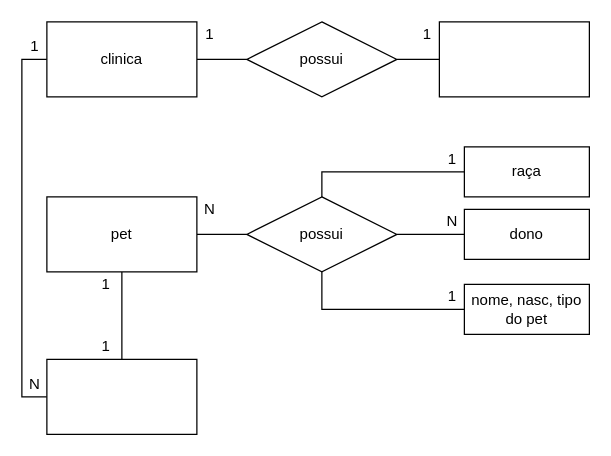
This 611x456 diagram has some shape labels left out. Here are the shapes that lost their labels. From the top down, the centre of each, then its label:
(x=513, y=59): endereco
(x=121, y=396): veterinario
